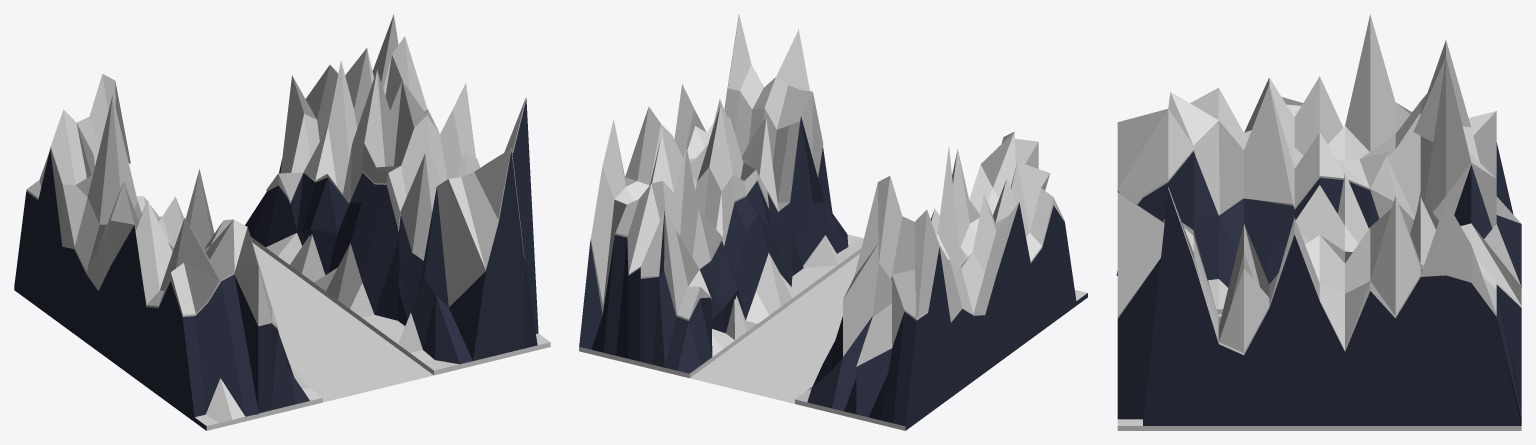
The model's file is SideMountain3.fbx.
The picture shows the model from 3 angles, left to right: view 1: azimuth 30°, elevation 25°; view 2: azimuth 150°, elevation 25°; view 3: azimuth 270°, elevation 25°; orthographic projection. The views are drawn at different scales.
Visible parts, largest first — view 1: Landscape.021; view 2: Landscape.021; view 3: Landscape.021.
Boxes of the visible parts, box(x1,y1,x2,y2) form: Landscape.021: box(14, 14, 550, 430); Landscape.021: box(579, 14, 1087, 430); Landscape.021: box(1116, 14, 1521, 430).
Bounding box in the file's own units: 18600 × 12501 × 18061.
